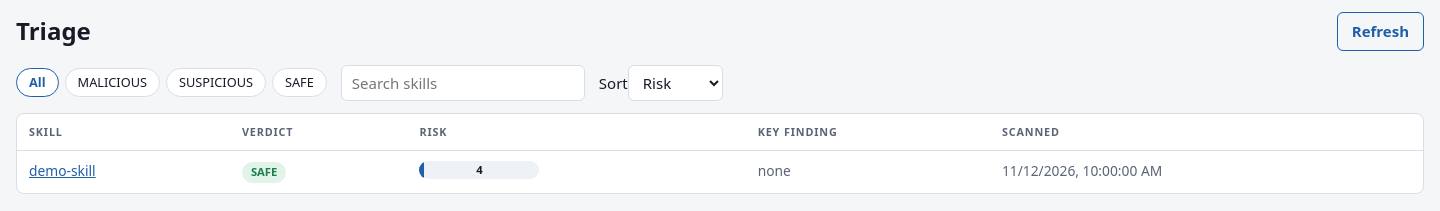
TriagePage empty states › says no scans match when a filter hides every scan
The image size is (1440, 211).
Expected: the link "demo-skill" is shown, x1=29 y1=161 x2=96 y2=180
Click the button "MALICIOUS".
click(112, 83)  # box x1=65 y1=68 x2=160 y2=97
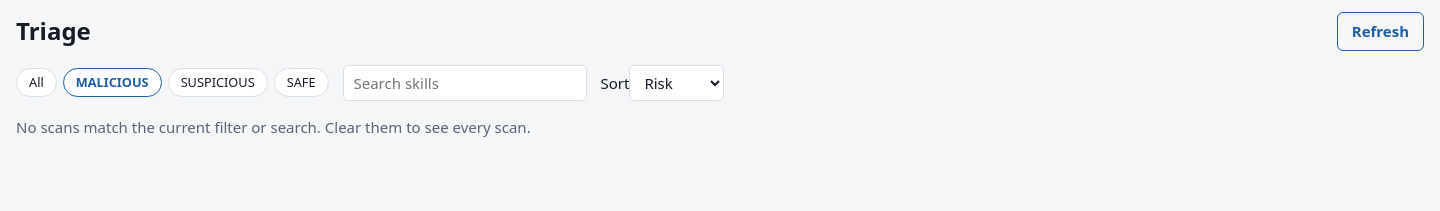
Now the text "No scans match the current filter or search" is shown, box x1=16 y1=117 x2=531 y2=137
